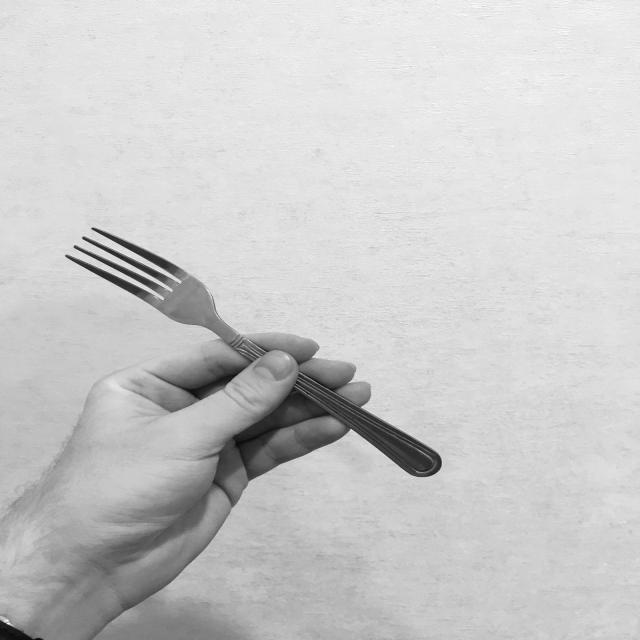fork: (60, 224, 442, 478)
